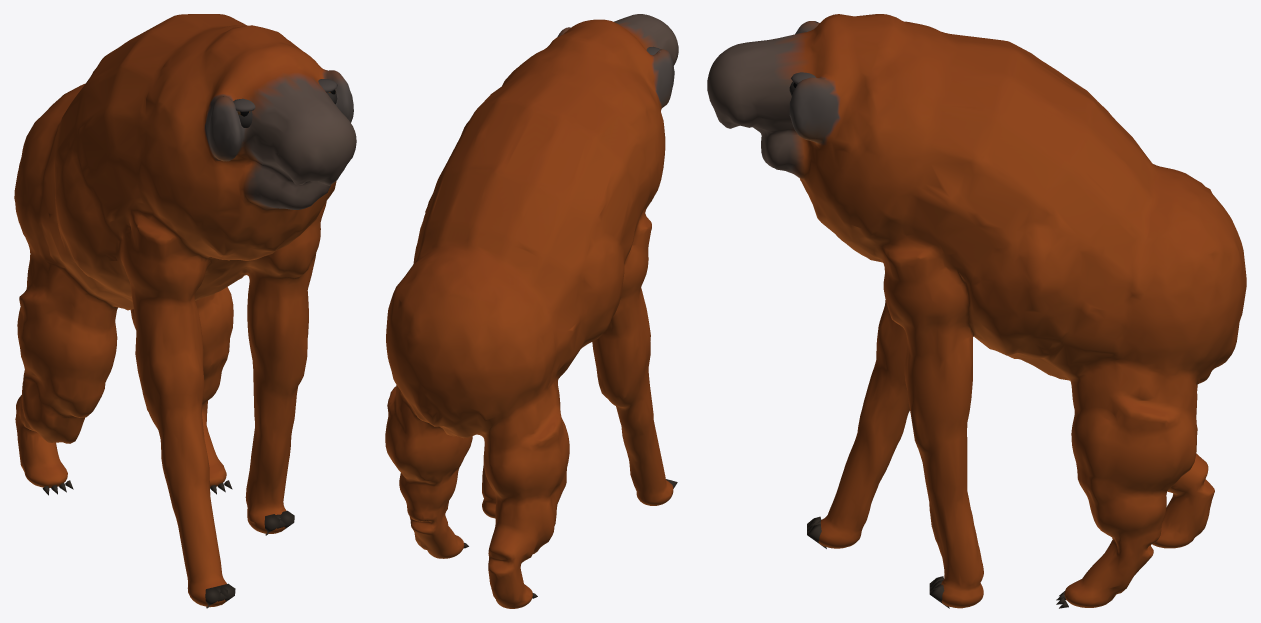
The model's file is PongoPygmaeus.fbx.
The picture shows the model from 3 angles, left to right: view 1: azimuth 30°, elevation 25°; view 2: azimuth 150°, elevation 25°; view 3: azimuth 270°, elevation 25°; orthographic projection. The views are drawn at different scales.
Parts seen in each view (by area): view 1: PongoPygmaeus; view 2: PongoPygmaeus; view 3: PongoPygmaeus.
Boxes of the visible parts, box(x1,y1,x2,y2) form: PongoPygmaeus: box(14, 14, 356, 608); PongoPygmaeus: box(385, 14, 678, 608); PongoPygmaeus: box(707, 14, 1246, 608).
Bounding box in the file's own units: 0.4589 × 1.08 × 0.9495.
